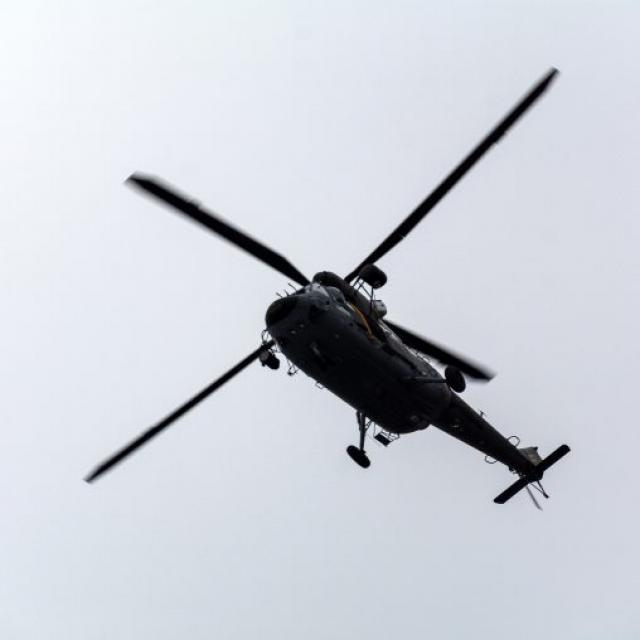airplane: (203, 189, 567, 515)
